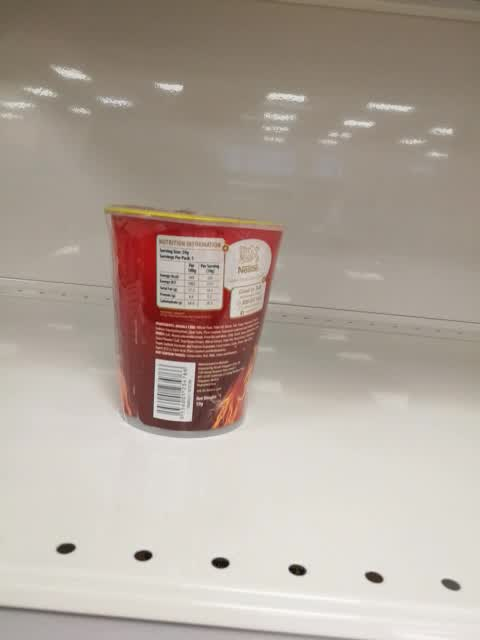maggi: (103, 203, 288, 441)
